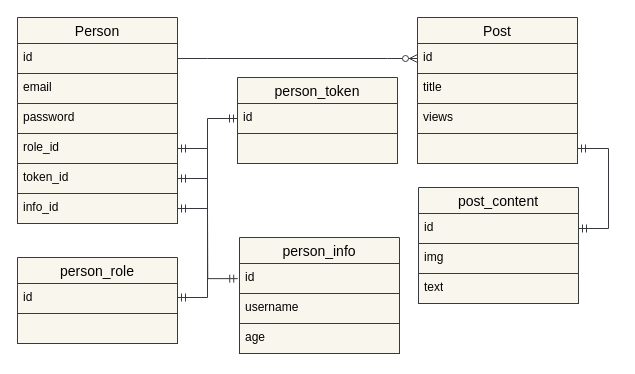
This 635x374 diagram has some shape labels left out. The centre of each missing label's shape, as x and y in pixels:
content_id: point (497, 148)
role: point (97, 328)
token: point (317, 148)
